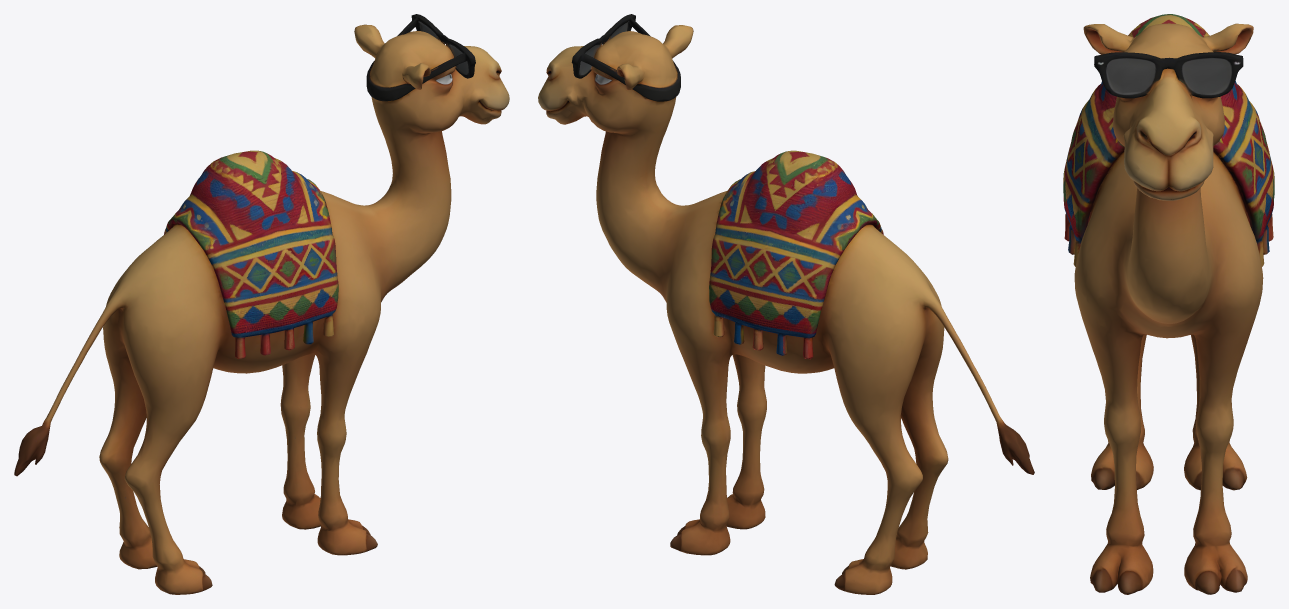
File: jamal.glb
3 views of the same model, side by side, from view 1: azimuth 30°, elevation 25°; view 2: azimuth 150°, elevation 25°; view 3: azimuth 270°, elevation 25° (orthographic). The views are drawn at different scales.
Parts seen in each view (by area): view 1: tripo_node_b70a372b-b6f6-4f6f-8dfd-19afd0f10631; view 2: tripo_node_b70a372b-b6f6-4f6f-8dfd-19afd0f10631; view 3: tripo_node_b70a372b-b6f6-4f6f-8dfd-19afd0f10631.
Boxes of the visible parts, x1,y1,x2,y2 form: tripo_node_b70a372b-b6f6-4f6f-8dfd-19afd0f10631: (14,14,509,594); tripo_node_b70a372b-b6f6-4f6f-8dfd-19afd0f10631: (538,14,1034,594); tripo_node_b70a372b-b6f6-4f6f-8dfd-19afd0f10631: (1063,14,1274,594).
Bounding box in the file's own units: 1 × 0.9292 × 0.2948.
Materials: 1 (1 with a texture image).
